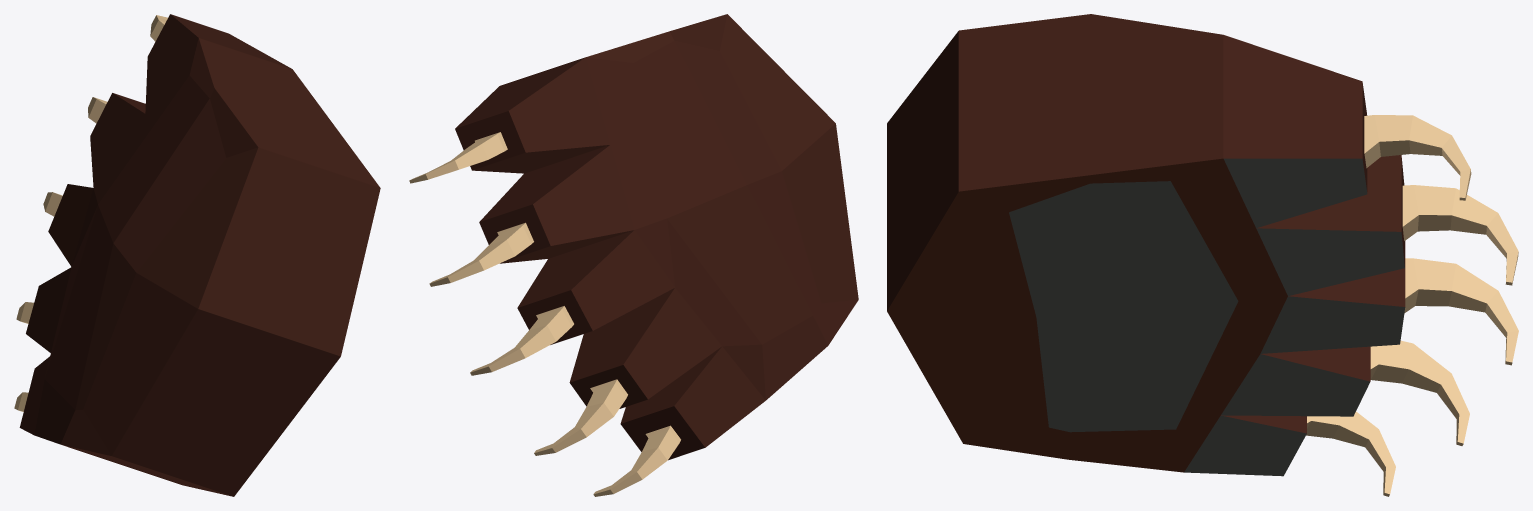
File: bearclaw-left.glb
3 views of the same model, side by side, from view 1: azimuth 30°, elevation 25°; view 2: azimuth 150°, elevation 25°; view 3: azimuth 270°, elevation 25° (orthographic). The views are drawn at different scales.
Parts seen in each view (by area): view 1: Geo_BearClaw; view 2: Geo_BearClaw; view 3: Geo_BearClaw.
Part boxes in pixels (x1,y1,x2,y2): Geo_BearClaw: (14,14,380,496); Geo_BearClaw: (409,14,858,496); Geo_BearClaw: (887,14,1518,496).
Bounding box in the file's own units: 0.1337 × 0.1776 × 0.2.
1 material, 1 textured.
